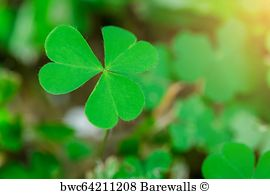oxalis: (33, 24, 171, 137)
